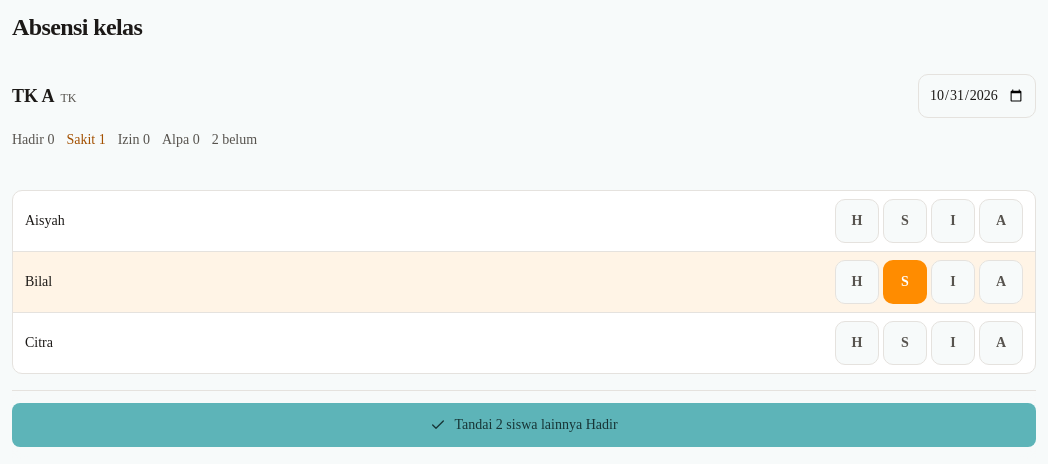
Scenario: class attendance failure copy (TCHX-4/15, TCH-10, TCH-11) › 401 on the bulk save shows Masuk lagi and hides the useless bulk button
The width and height of the screenshot is (1048, 464).
Click the button "Tandai 2 siswa lainnya Hadir".
click(524, 425)  # box [12, 403, 1036, 447]
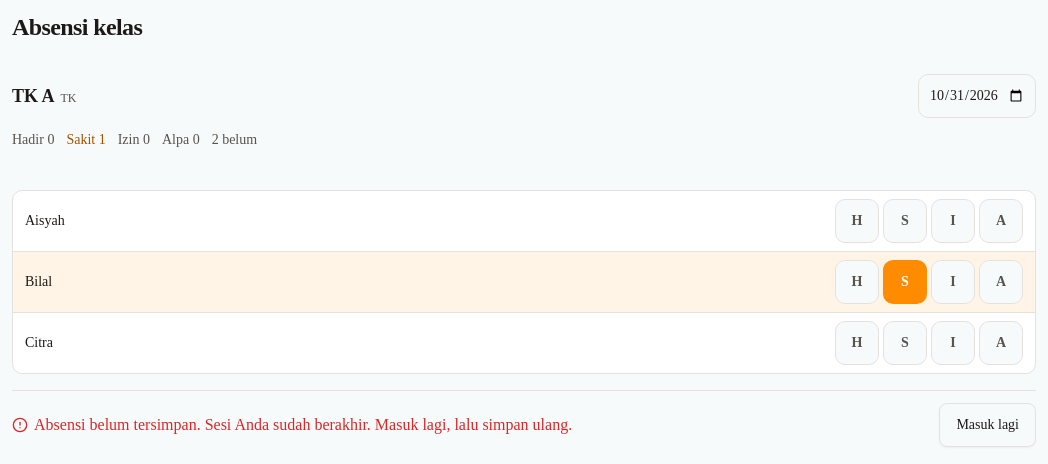
Check: the message shows "Sesi Anda sudah berakhir", box [34, 416, 572, 433]
Check: the link "Masuk lagi" is shown, box [939, 403, 1036, 447]
Check: the button "Tandai" is gone
